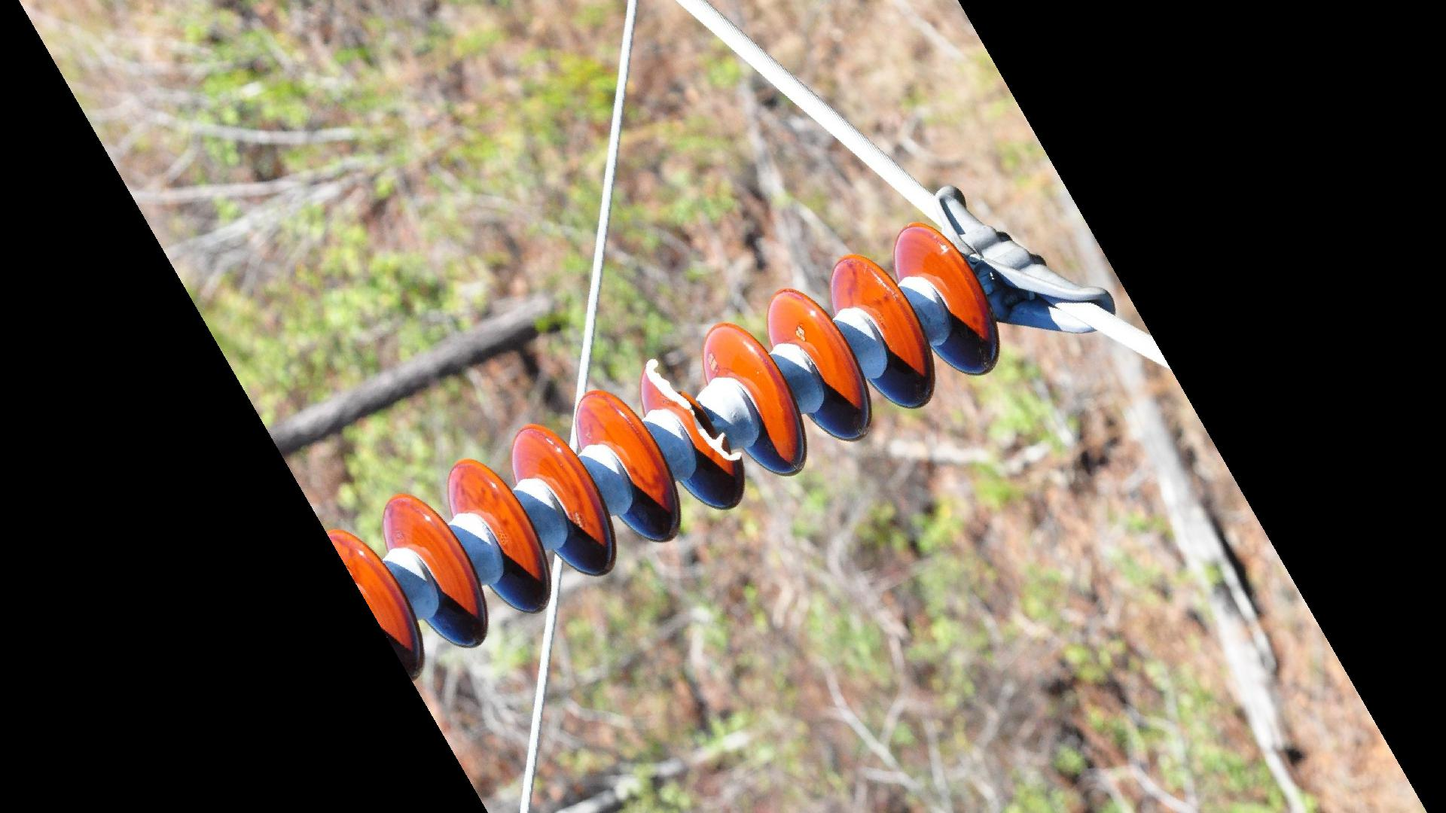insulator: (320, 216, 1011, 690)
insulator_breakage: (638, 352, 746, 473)
